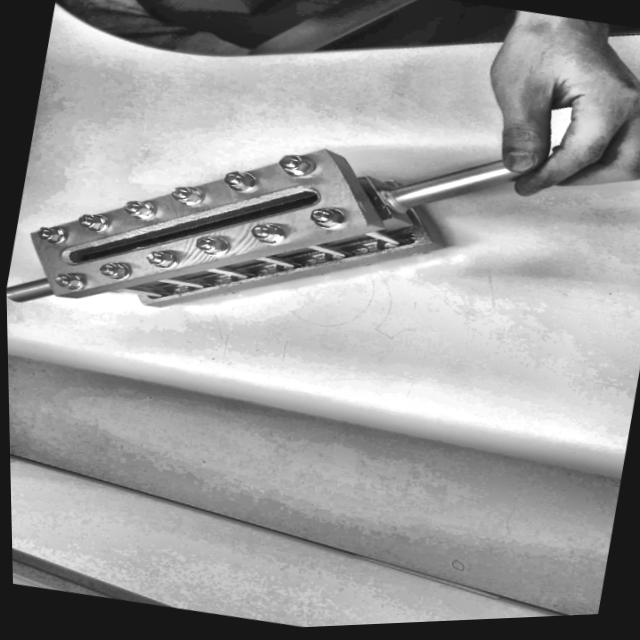ShuiWeiQi_12: (9, 67, 502, 390)
